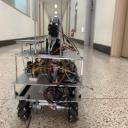cart: (9, 47, 85, 123)
